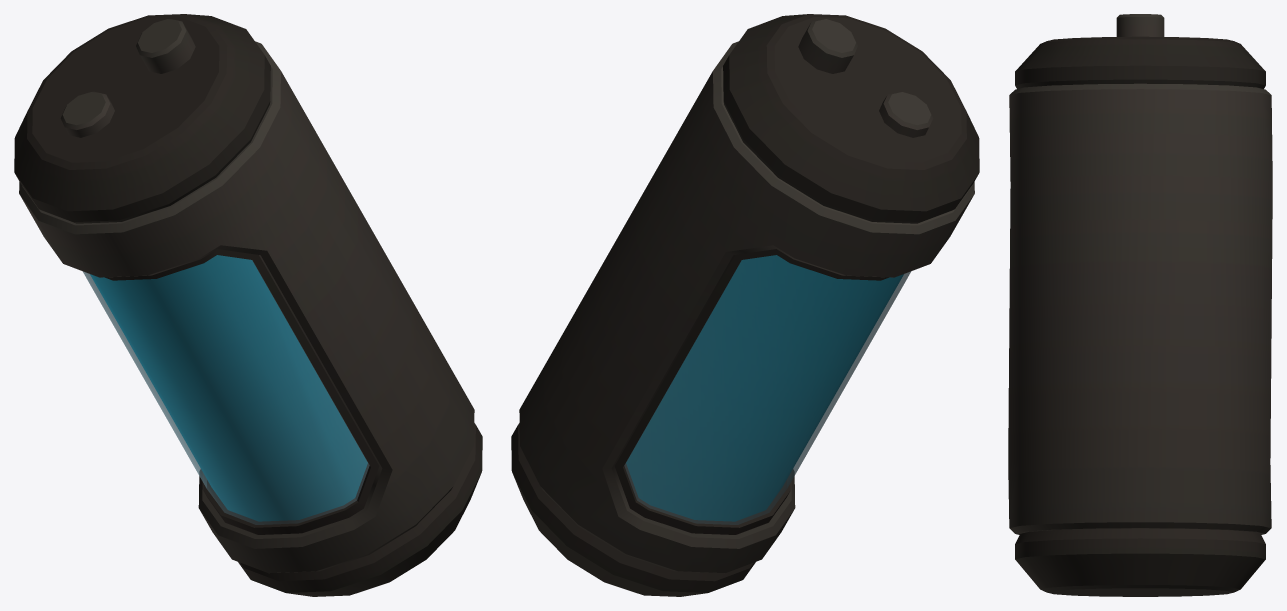
Rendered from SMG8_MagazineExtended.fbx.
3 views of the same model, side by side, from view 1: azimuth 30°, elevation 25°; view 2: azimuth 150°, elevation 25°; view 3: azimuth 270°, elevation 25° (orthographic). The views are drawn at different scales.
Visible parts, largest first — view 1: SMG8_MagazineExtended; view 2: SMG8_MagazineExtended; view 3: SMG8_MagazineExtended.
Part boxes in pixels (left/top/right/bottom): SMG8_MagazineExtended: left=14, top=14, right=482, bottom=596; SMG8_MagazineExtended: left=511, top=14, right=979, bottom=596; SMG8_MagazineExtended: left=1008, top=14, right=1272, bottom=596.
Size of the model in its own units: 14.22 by 18.63 by 8.38.
